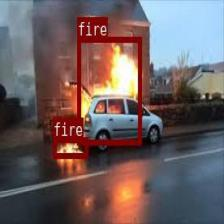fire: (77, 36, 141, 144), (52, 137, 88, 158)
